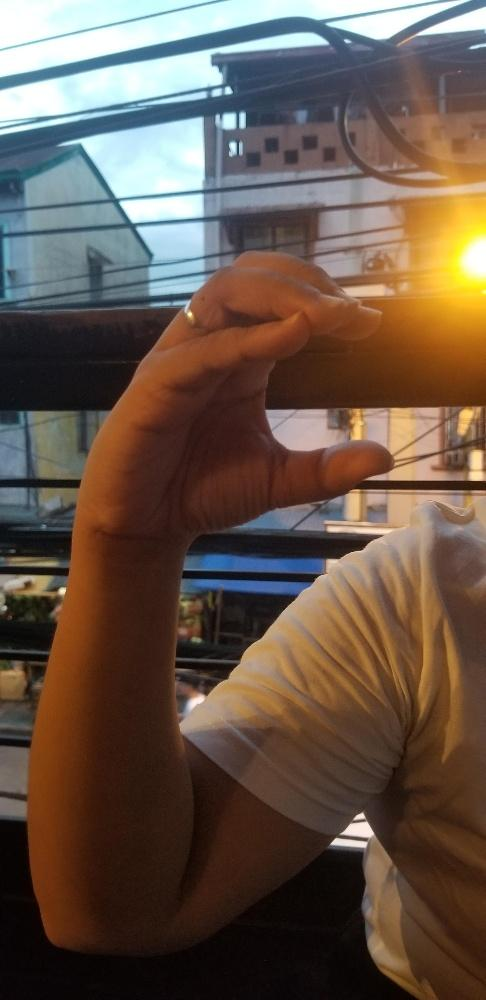c: (69, 248, 398, 540)
